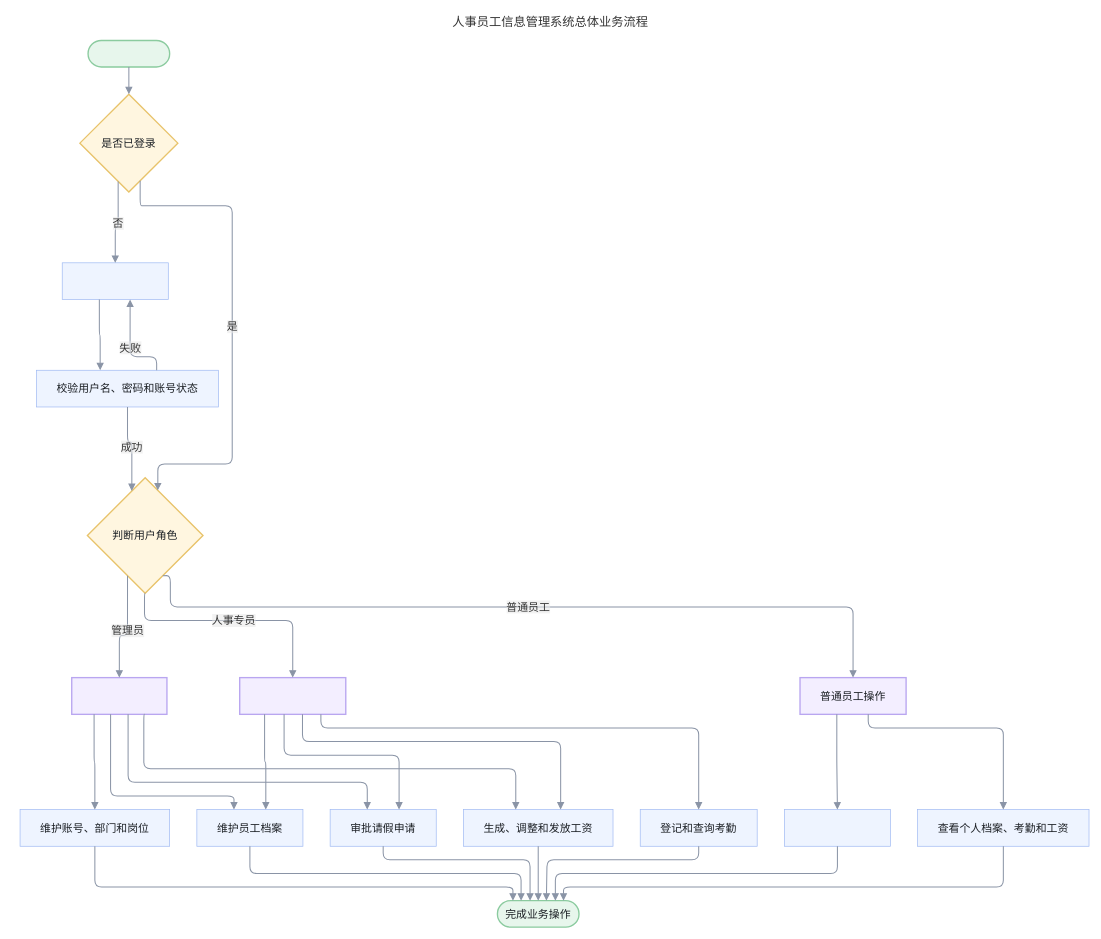
The diagram is 1101 pixels wide and 939 high, and some of its shapes have lost their labels. The shapes that lost their labels are listed below. From the top down, each one's box as (x1, y1, x2, y2) in pixels, then its label:
(87, 39, 170, 67): 用户访问系统
(62, 262, 168, 300): 进入登录页面
(71, 677, 167, 715): 管理员操作
(239, 677, 346, 715): 人事专员操作
(784, 809, 890, 846): 提交请假申请
